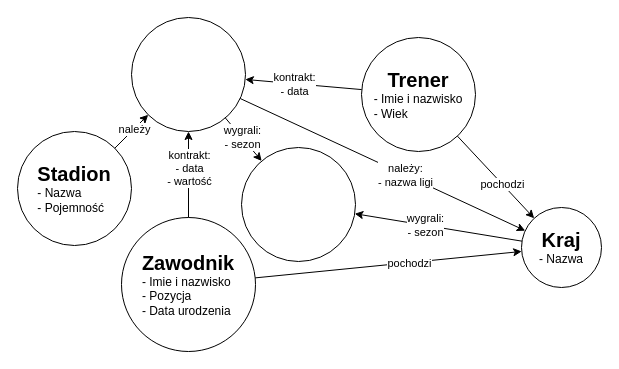
This 619x369 diagram has some shape labels left out. Each missing label, with the centre of its shape:
Klub - Nazwa: (188,74)
Trofeum - Nazwa - Sezon: (298,204)
